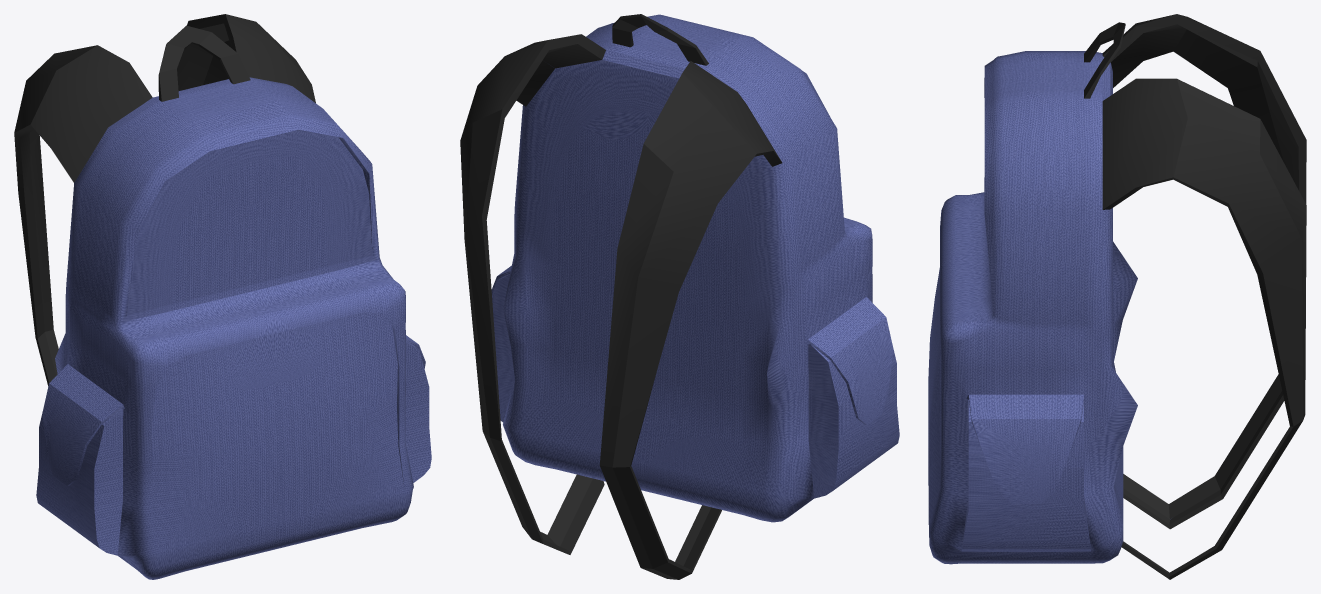
Rendered from mochila.glb.
3 renders of one model, left to right at view 1: azimuth 30°, elevation 25°; view 2: azimuth 150°, elevation 25°; view 3: azimuth 270°, elevation 25°, orthographic. The views are drawn at different scales.
Parts seen in each view (by area): view 1: Box001; view 2: Box001; view 3: Box001.
Boxes of the visible parts, box(x1,y1,x2,y2) form: Box001: box(14, 14, 431, 579); Box001: box(460, 14, 899, 579); Box001: box(928, 14, 1306, 579).
Bounding box in the file's own units: 147 × 206 × 133.
Materials: 1 (1 with a texture image).
